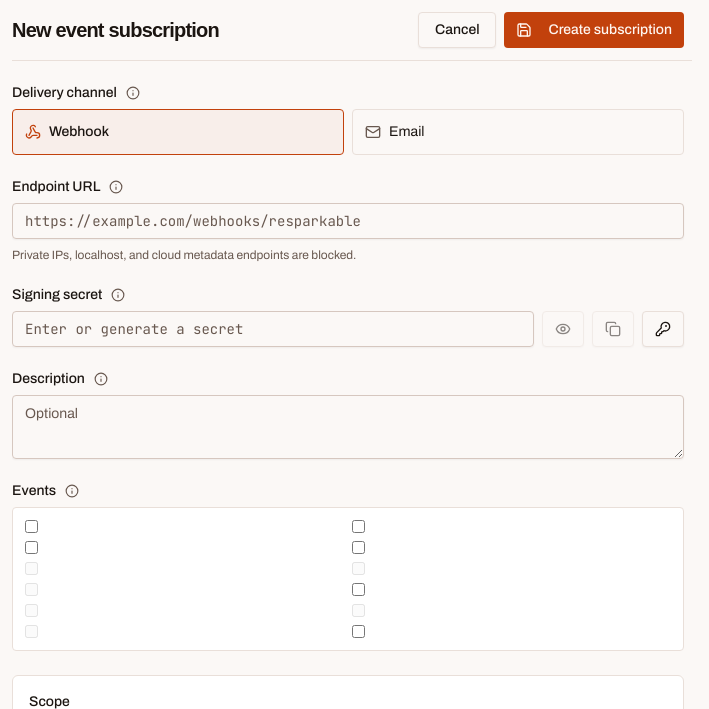
WebhookForm › validates URL is required on submit
Click the button "Create subscription".
click(594, 30)  # box [504,12,684,48]
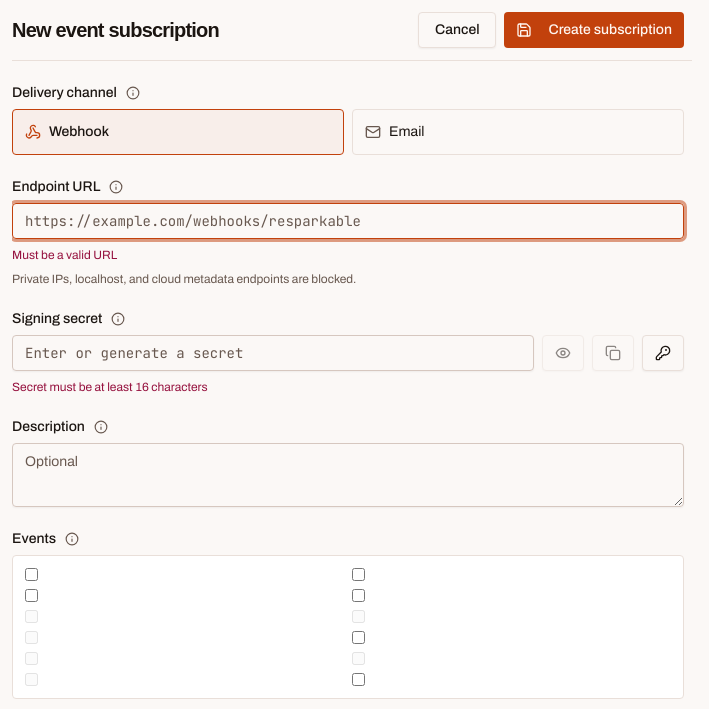
expect the text "Must be a valid URL" is shown: met, box [12,248,117,262]
